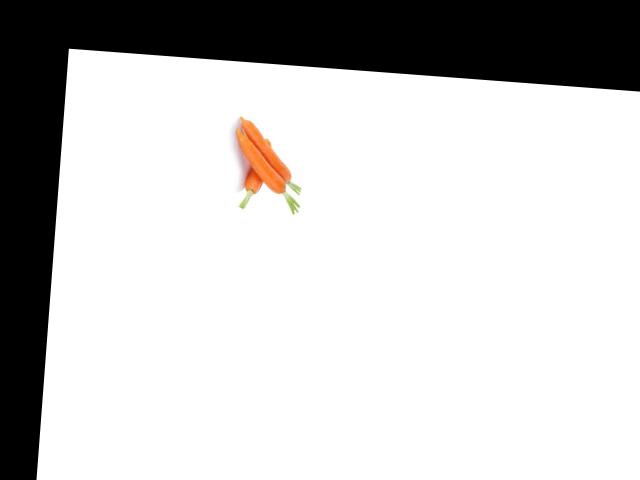carrot: (241, 129, 275, 207)
